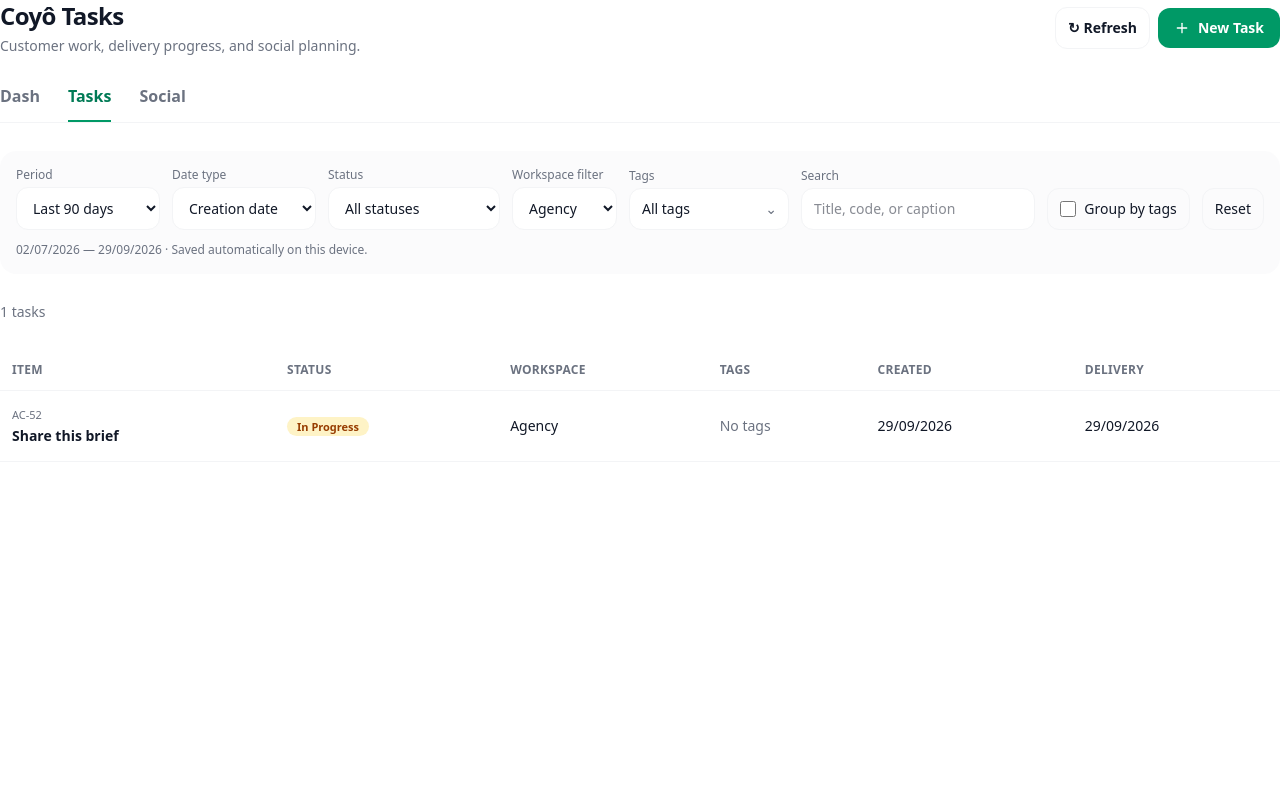
Test case: shares a direct link to an open task
Click the button "AC-52 Share this brief" at (65, 436), box 0,390 -> 1279,462
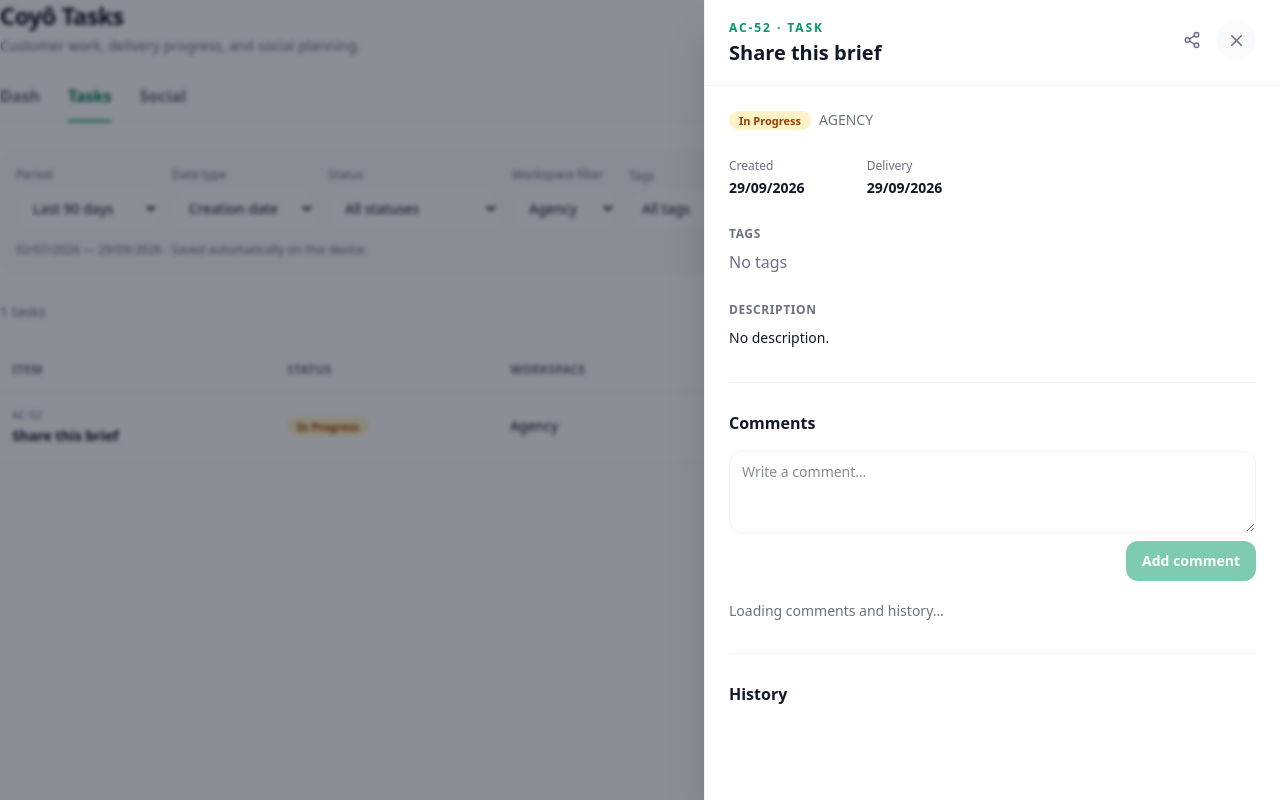
Click the button named "Share task" at (1192, 40), box 1172,20 -> 1212,60
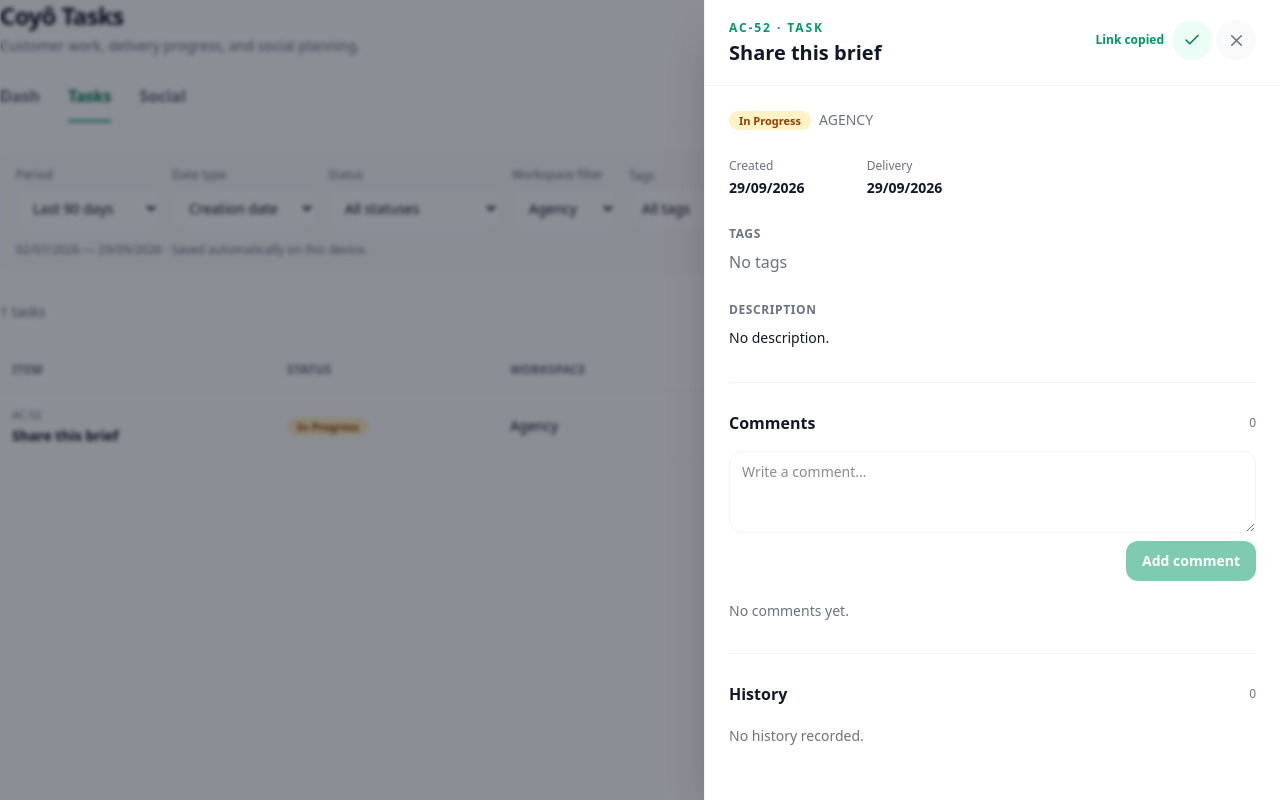
Now the text "Link copied" is shown, box 1096,32 -> 1164,48
